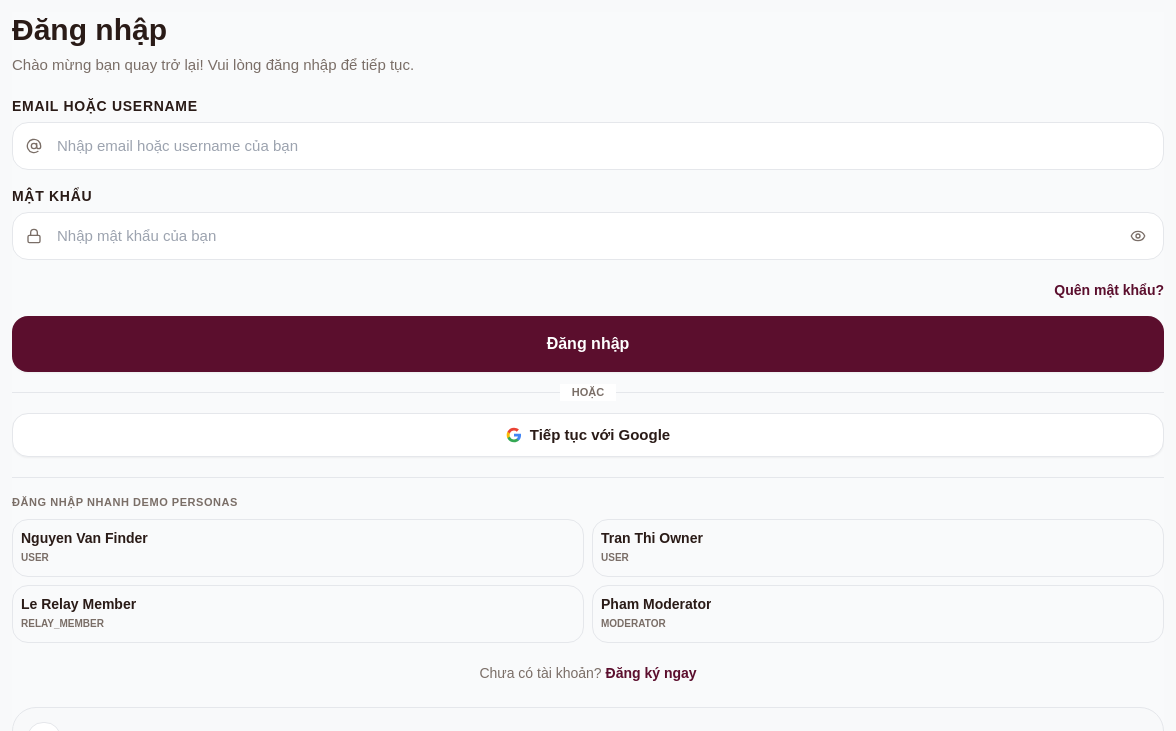
Test case: LoginForm navigation › switches identifier icon from AtSign to Mail when typing an email with @
The image size is (1176, 731).
Expected: the icon with class "lucide-at-sign" is shown, [26,138,42,154]
Note: Type a username without @: remains at-sign icon
Type "johndoe" into the field with placeholder "Nhập email hoặc username của bạn" at (588, 146), box [12,122,1164,170]
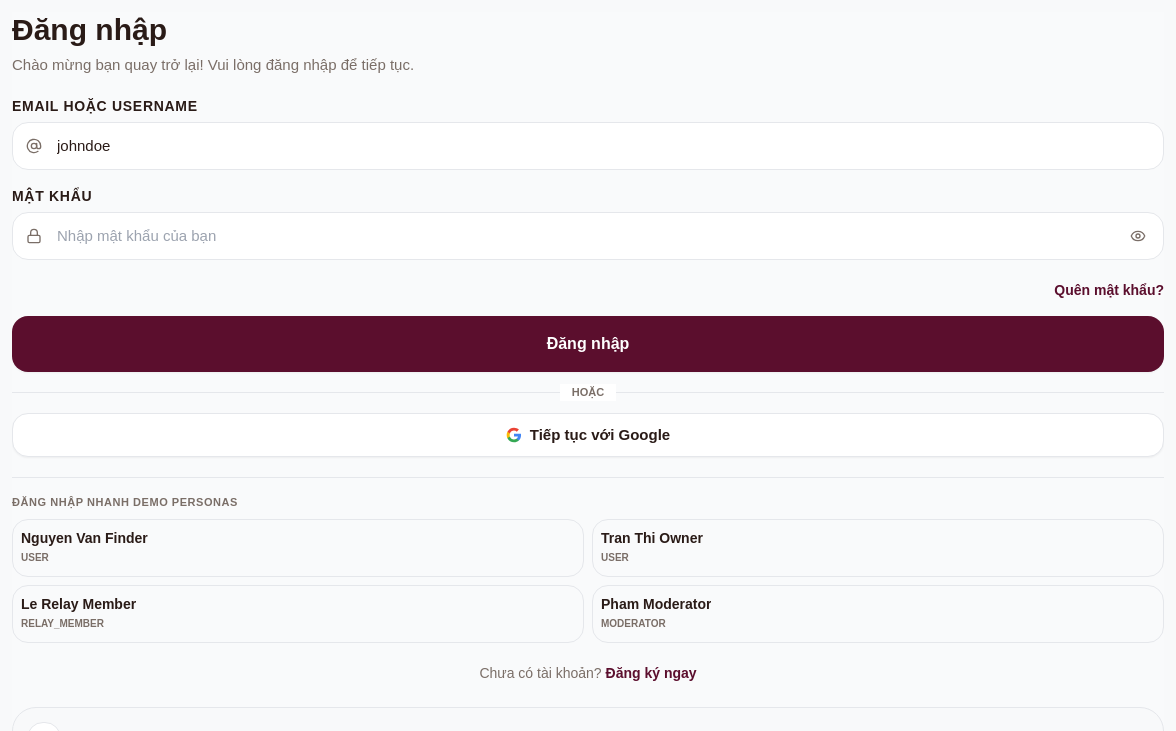
Expected: the icon with class "lucide-at-sign" is shown, [26,138,42,154]
Note: Type an email with @: switches to mail icon
Replace the text in the field with placeholder "Nhập email hoặc username của bạn" with "johndoe@gmail.com" at (588, 146), box [12,122,1164,170]
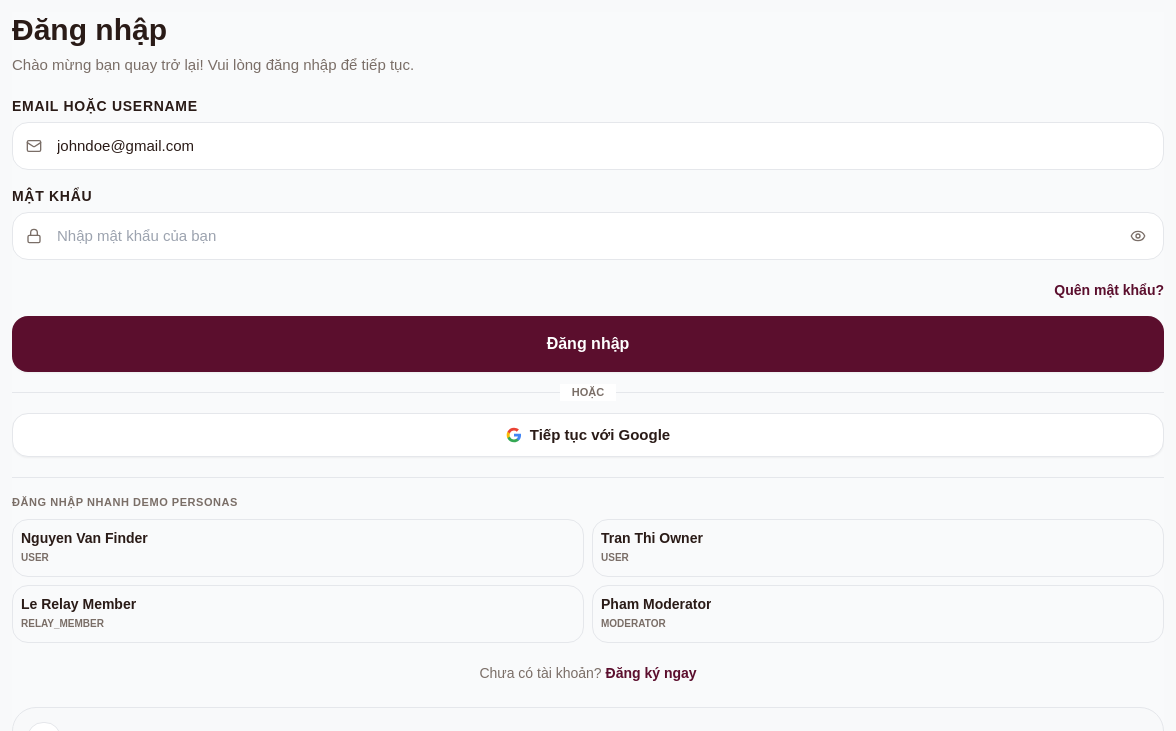
Result: the icon with class "lucide-mail" is shown at [26,138,42,154]
Result: the icon with class "lucide-at-sign" is gone
Note: Clear back to username without @: switches back to at-sign icon
Replace the text in the field with placeholder "Nhập email hoặc username của bạn" with "johndoe" at (588, 146), box [12,122,1164,170]
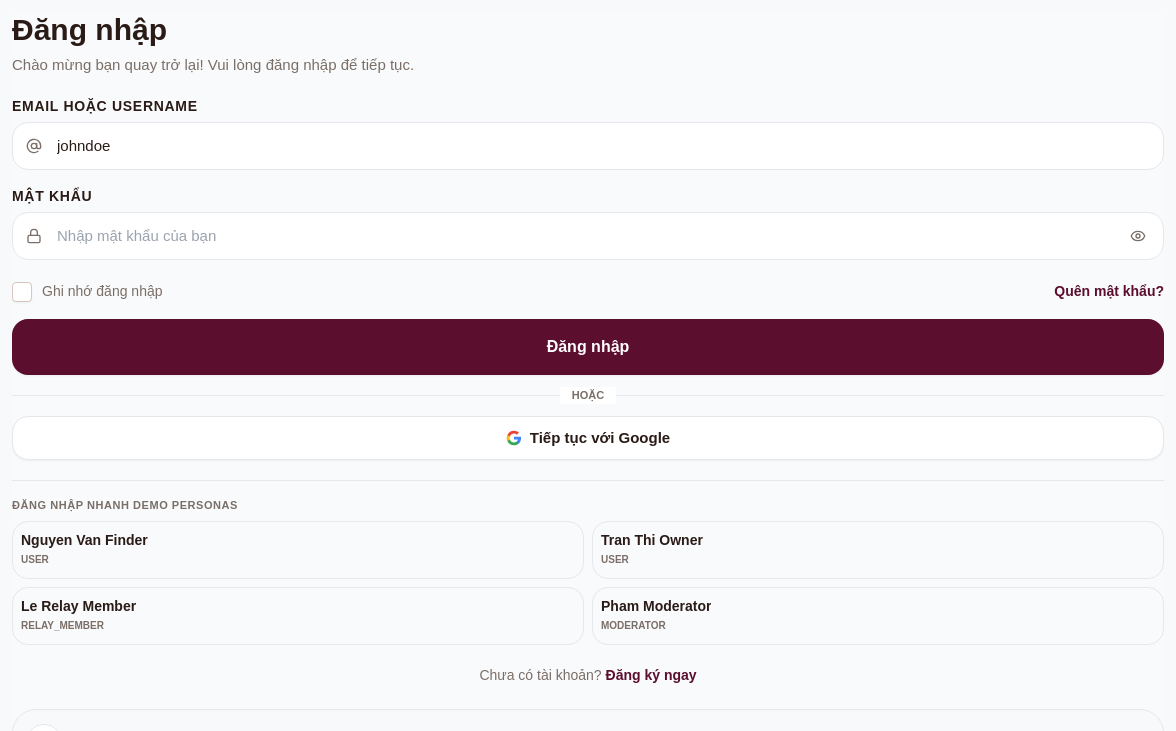
Result: the icon with class "lucide-at-sign" is shown at [26,138,42,154]
Result: the icon with class "lucide-mail" is gone
